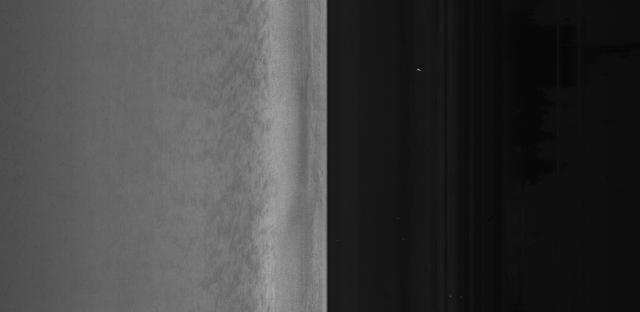silk_spot: (216, 103, 262, 209)
